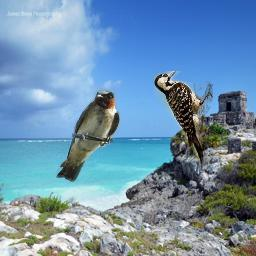Swallow: (54, 88, 120, 182)
Woodpecker: (154, 71, 213, 170)
